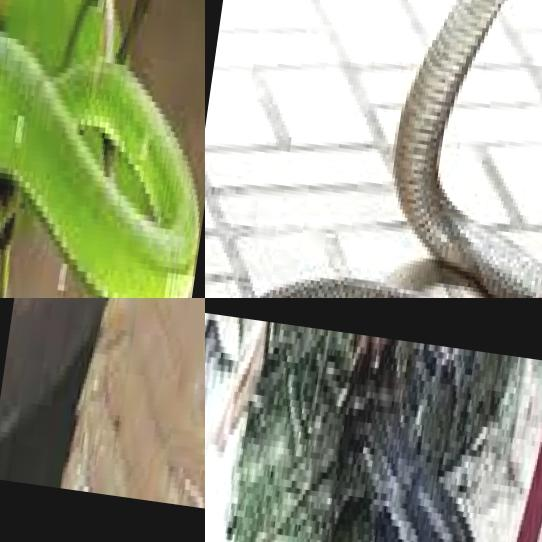snake: (218, 0, 542, 298), (205, 300, 542, 542), (0, 0, 205, 298), (26, 298, 205, 534)
